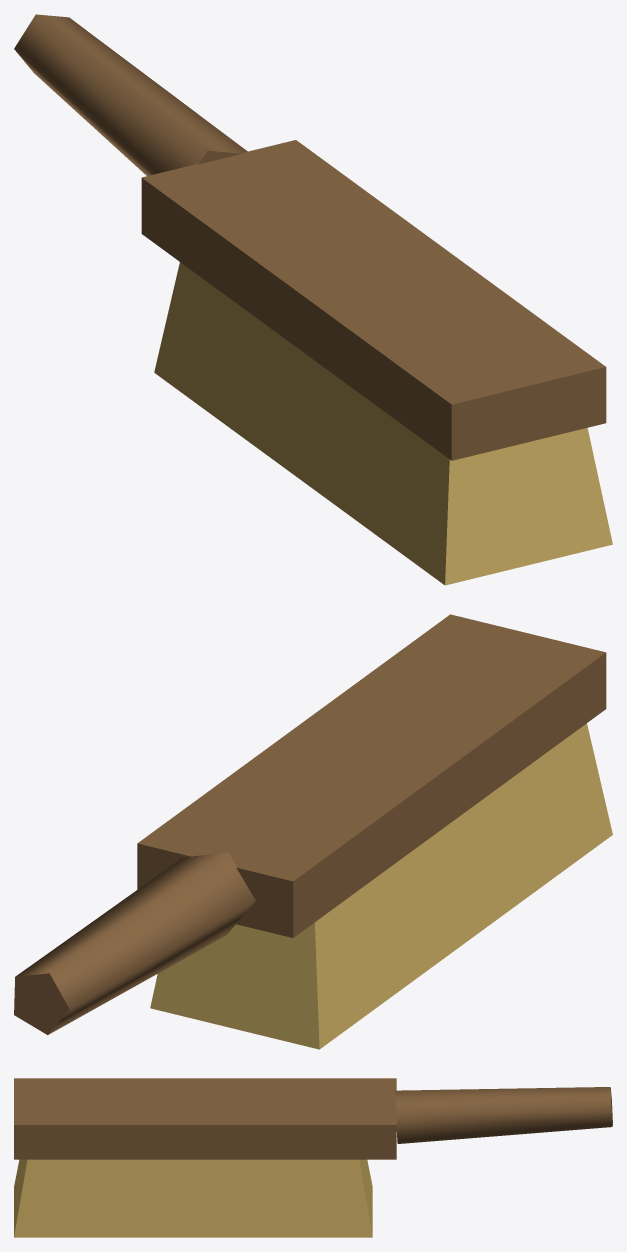
File: brush.glb
The picture shows the model from 3 angles, top to bottom: view 1: azimuth 30°, elevation 25°; view 2: azimuth 150°, elevation 25°; view 3: azimuth 270°, elevation 25°; orthographic projection. The views are drawn at different scales.
Visible parts, largest first — view 1: brush; view 2: brush; view 3: brush.
Boxes of the visible parts, bbox=[...] form: brush: bbox=[14, 14, 612, 585]; brush: bbox=[14, 614, 612, 1049]; brush: bbox=[14, 1078, 612, 1237].
Bounding box in the file's own units: 0.05 × 0.0565 × 0.2505.
